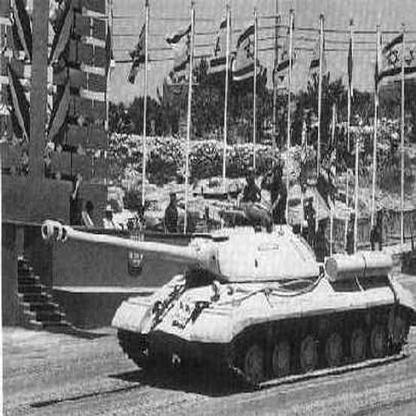Tank: (35, 207, 414, 377)
